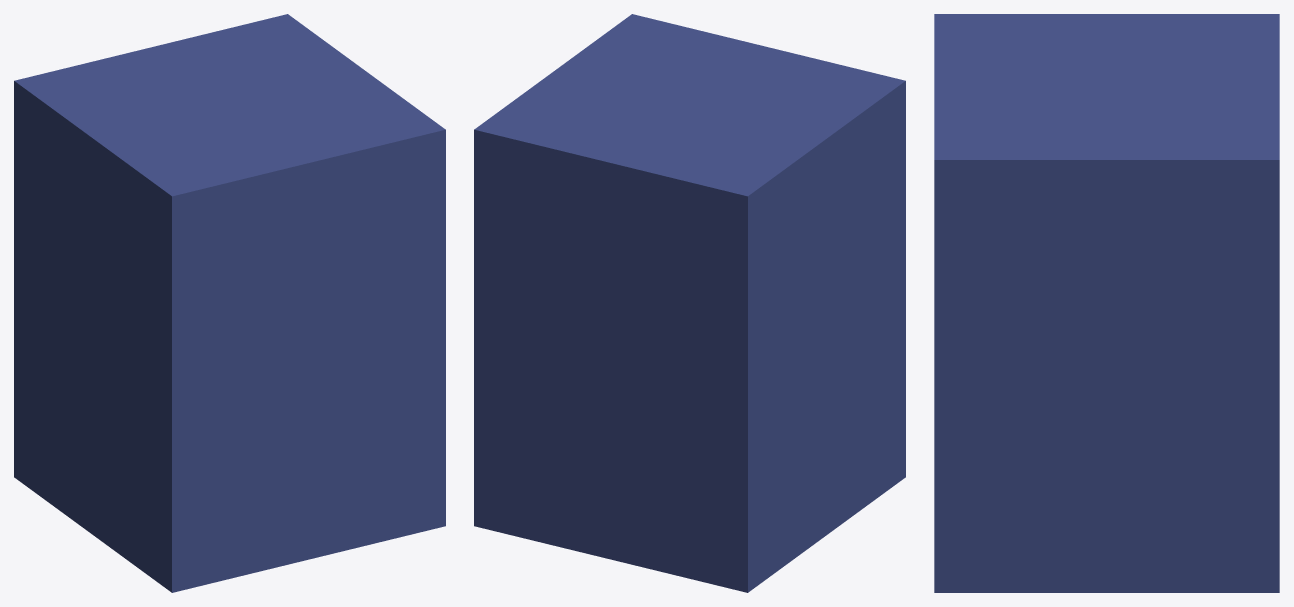
The model's file is piloto_comercial_coxa.glb.
3 views of the same model, side by side, from view 1: azimuth 30°, elevation 25°; view 2: azimuth 150°, elevation 25°; view 3: azimuth 270°, elevation 25° (orthographic). The views are drawn at different scales.
Parts seen in each view (by area): view 1: piloto_comercial_coxa; view 2: piloto_comercial_coxa; view 3: piloto_comercial_coxa.
Boxes of the visible parts, x1,y1,x2,y2 form: piloto_comercial_coxa: [14, 14, 445, 592]; piloto_comercial_coxa: [474, 14, 905, 592]; piloto_comercial_coxa: [934, 14, 1279, 592].
Bounding box in the file's own units: 0.26 × 0.36 × 0.26.
